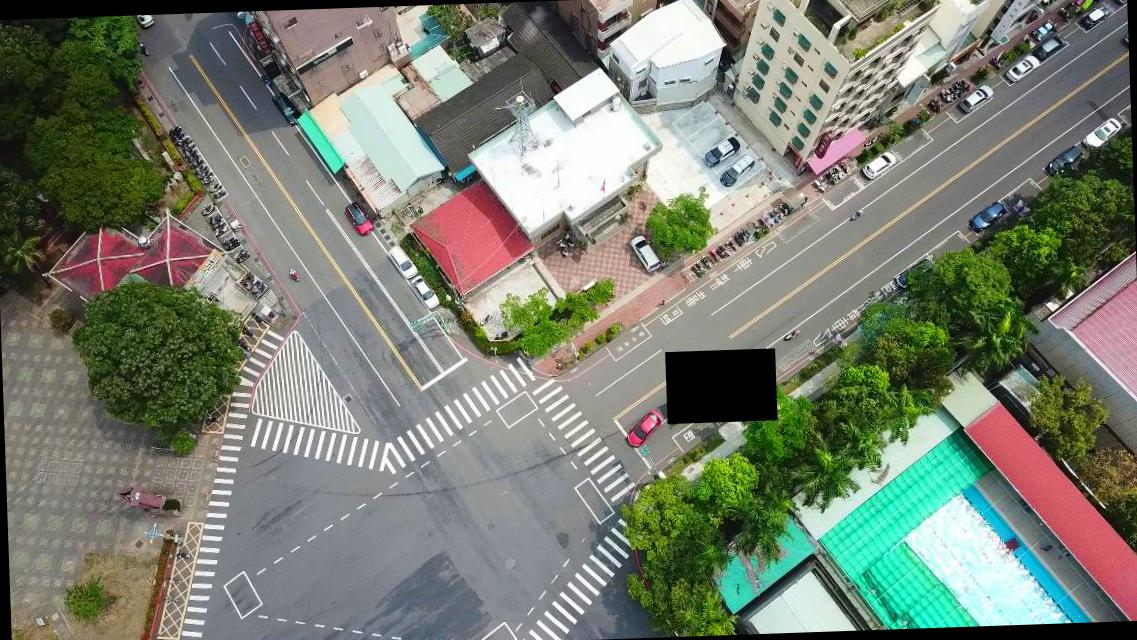vehicle: (624, 409, 664, 448), (1080, 116, 1124, 150), (967, 200, 1009, 233), (718, 152, 756, 188), (630, 234, 663, 275), (1044, 145, 1086, 177), (702, 135, 740, 168), (386, 243, 418, 280), (957, 83, 995, 114), (859, 150, 898, 180), (270, 90, 302, 126), (1003, 54, 1041, 84), (410, 274, 440, 310), (343, 201, 374, 235), (1035, 34, 1065, 59), (1080, 6, 1110, 28), (134, 15, 156, 29), (1112, 0, 1126, 6)
